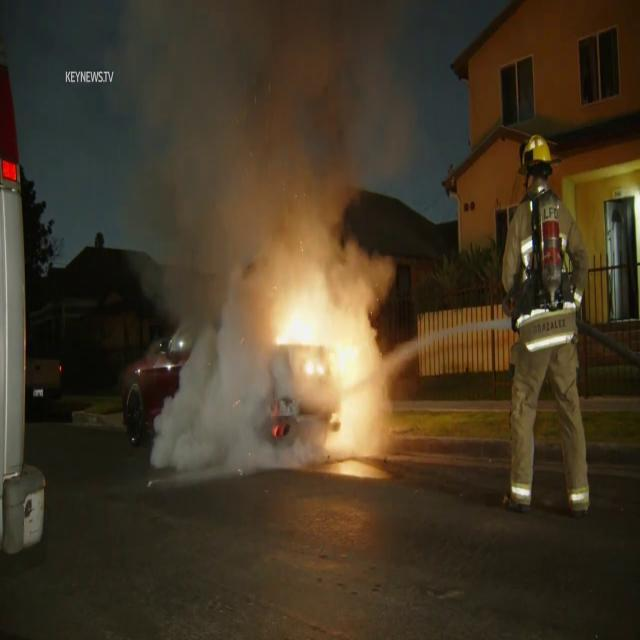Fire: (264, 249, 388, 442)
Smoke: (132, 1, 414, 259)
